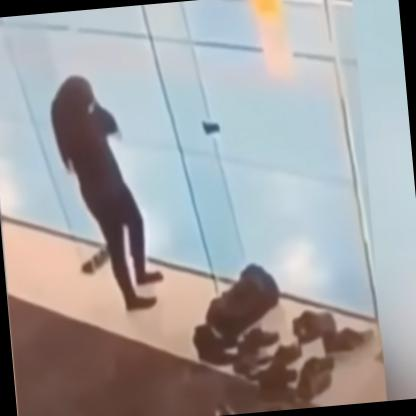Human Body: (42, 66, 170, 320)
